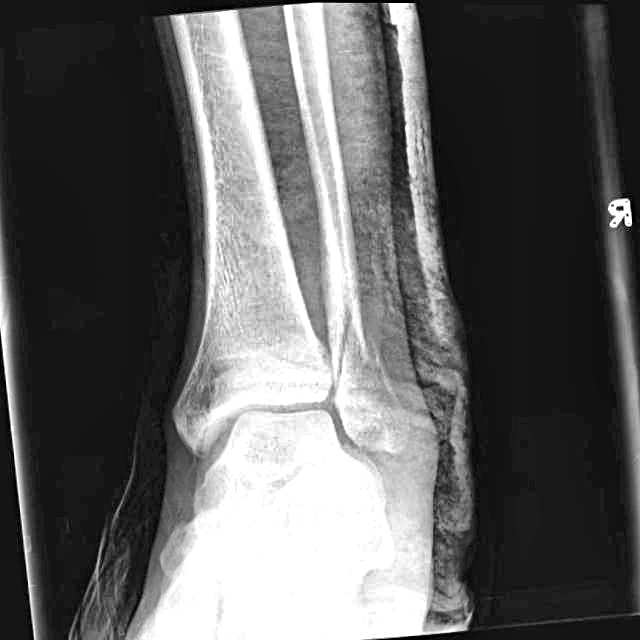Oblique Displaced: (310, 282, 389, 423)
